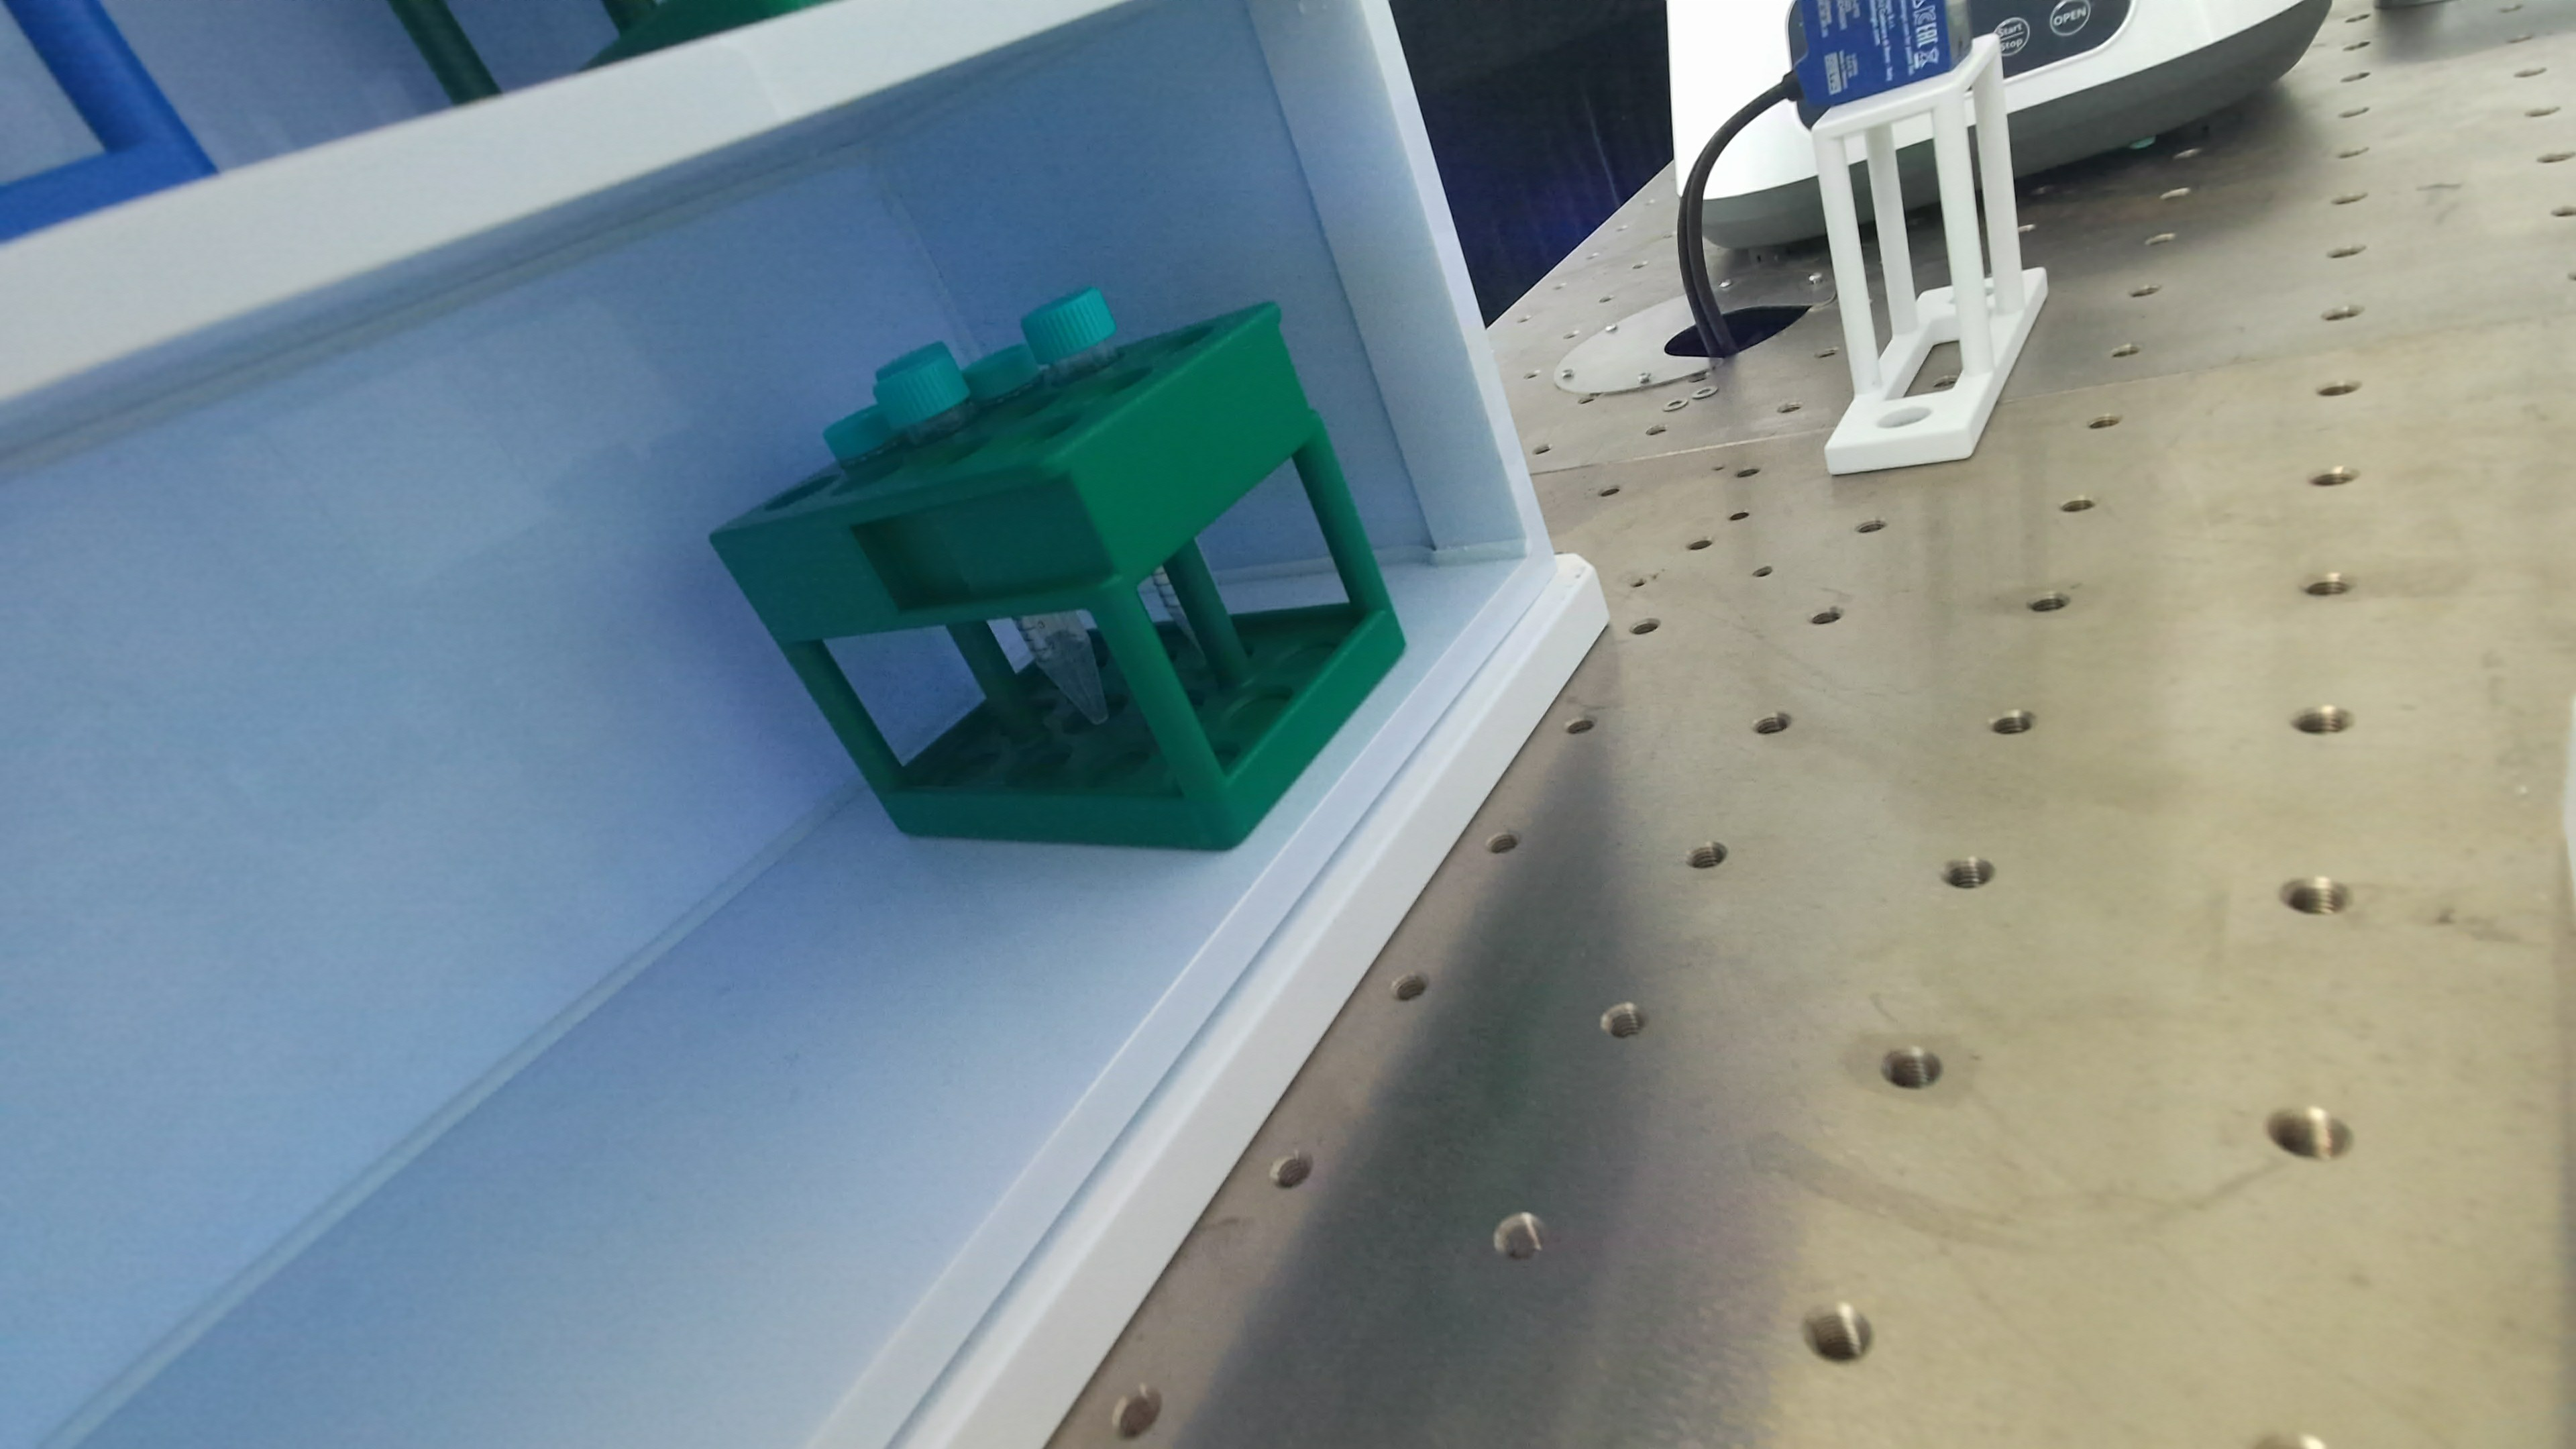10ML_centrifuge_tube: (1016, 610, 1108, 724), (874, 341, 970, 430), (1021, 287, 1116, 364)
10ML_sorting_tube_rack: (0, 0, 216, 241)
5ML_centrifuge_tube: (962, 343, 1040, 403), (823, 405, 893, 464)
5ML_sorting_tube_rack: (711, 292, 1403, 849), (389, 0, 819, 104)
centrifuge_close: (1668, 0, 2328, 248)
tube_rack_storage_cabinet: (0, 0, 1603, 1444), (0, 0, 1550, 1442)
